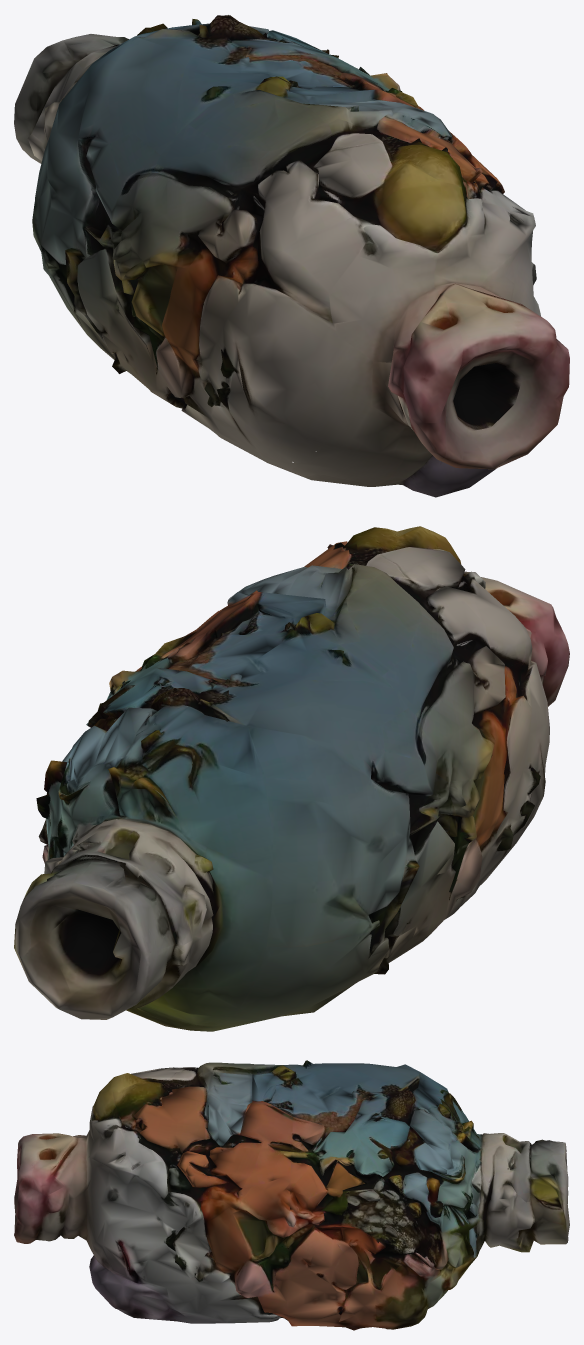
File: bottle.glb
3 renders of one model, top to bottom at view 1: azimuth 30°, elevation 25°; view 2: azimuth 150°, elevation 25°; view 3: azimuth 270°, elevation 25°, orthographic. The views are drawn at different scales.
Parts seen in each view (by area): view 1: tripo_node_da4c8227; view 2: tripo_node_da4c8227; view 3: tripo_node_da4c8227.
Boxes of the visible parts, bbox=[...] form: tripo_node_da4c8227: bbox=[14, 15, 569, 497]; tripo_node_da4c8227: bbox=[14, 526, 569, 1031]; tripo_node_da4c8227: bbox=[14, 1060, 569, 1330].
Size of the model in its own units: 0.4747 by 0.4648 by 0.9791.
Materials: 1 (1 with a texture image).
